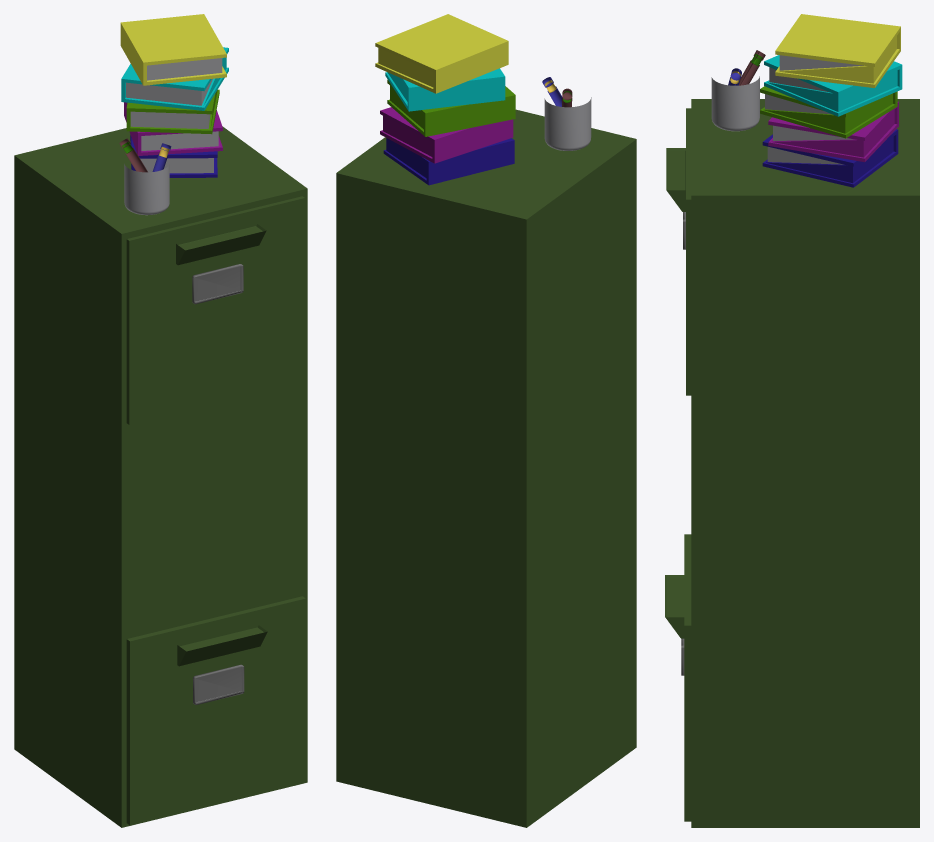
The model's file is meuble_tiroirs.glb.
3 renders of one model, left to right at view 1: azimuth 30°, elevation 25°; view 2: azimuth 150°, elevation 25°; view 3: azimuth 270°, elevation 25°, orthographic. The views are drawn at different scales.
Parts seen in each view (by area): view 1: meuble_tiroirs; view 2: meuble_tiroirs; view 3: meuble_tiroirs.
Boxes of the visible parts, bbox=[...] form: meuble_tiroirs: bbox=[14, 14, 307, 827]; meuble_tiroirs: bbox=[336, 14, 636, 827]; meuble_tiroirs: bbox=[665, 14, 919, 827].
Size of the model in its own units: 0.5091 by 1.86 by 0.5671.
